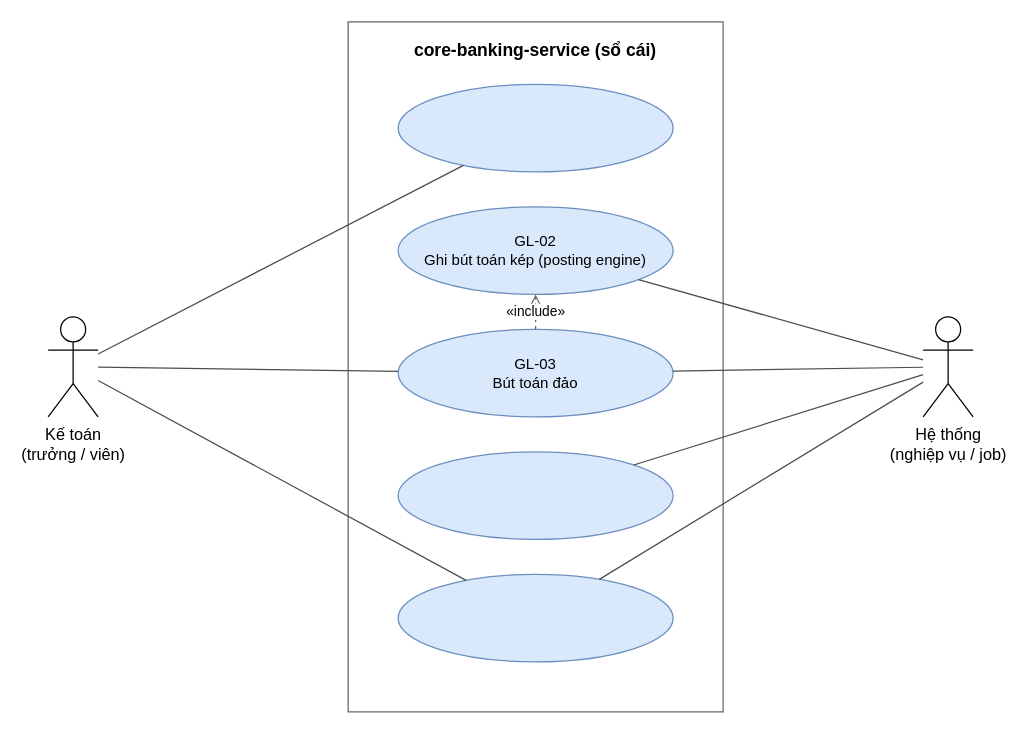
This 1028x734 diagram has some shape labels left out. Here are the shapes that lost their labels. From the top down, the centre of each, then its label:
At point 535,127: "GL-01 Quản lý chart of accounts".
At point 535,495: "GL-04 Chốt số dư cuối ngày (snapshot)".
At point 535,617: "GL-05 Đối chiếu sổ cái — sổ phụ".
